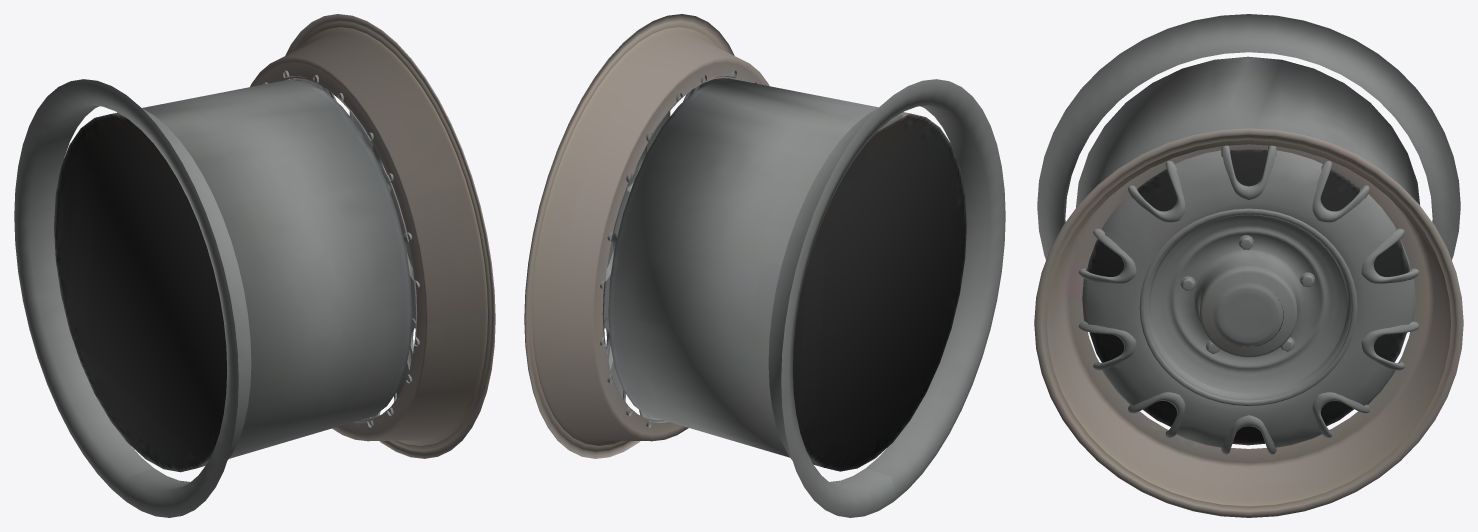
The picture shows the model from 3 angles, left to right: view 1: azimuth 30°, elevation 25°; view 2: azimuth 150°, elevation 25°; view 3: azimuth 270°, elevation 25°; orthographic projection. The views are drawn at different scales.
Parts seen in each view (by area): view 1: Surge; view 2: Surge; view 3: Surge.
Part boxes in pixels (box(x1,y1,x2,y2)): Surge: box(14, 14, 495, 517); Surge: box(524, 14, 1005, 517); Surge: box(1034, 14, 1463, 517).
Bounding box in the file's own units: 0.7765 × 1.19 × 1.19.
Materials: 1 (1 with a texture image).
